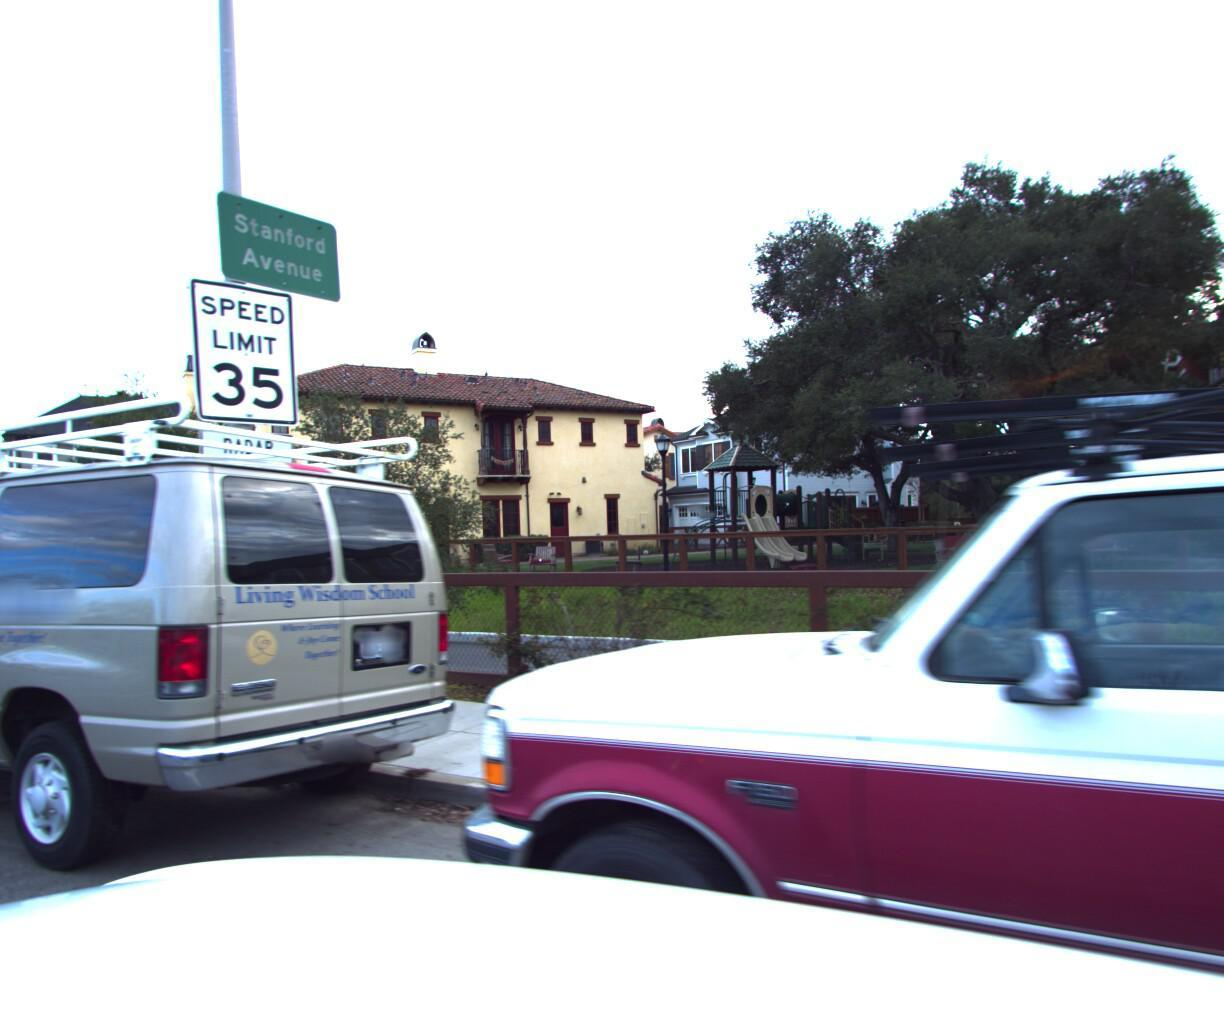car: (365, 0, 1224, 1024)
truck: (0, 376, 481, 951)
